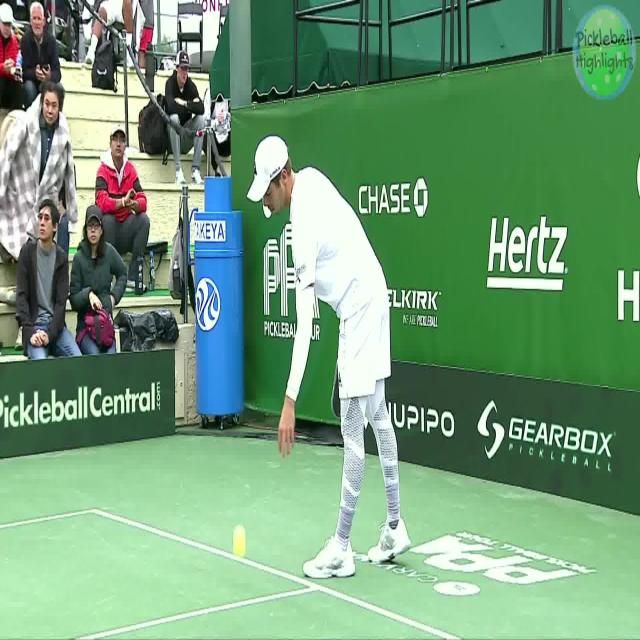ball: (221, 508, 255, 559)
